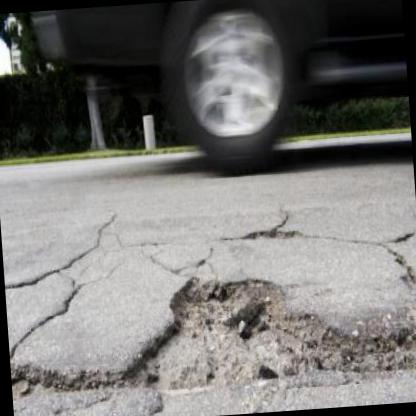pothole: (112, 259, 362, 401)
